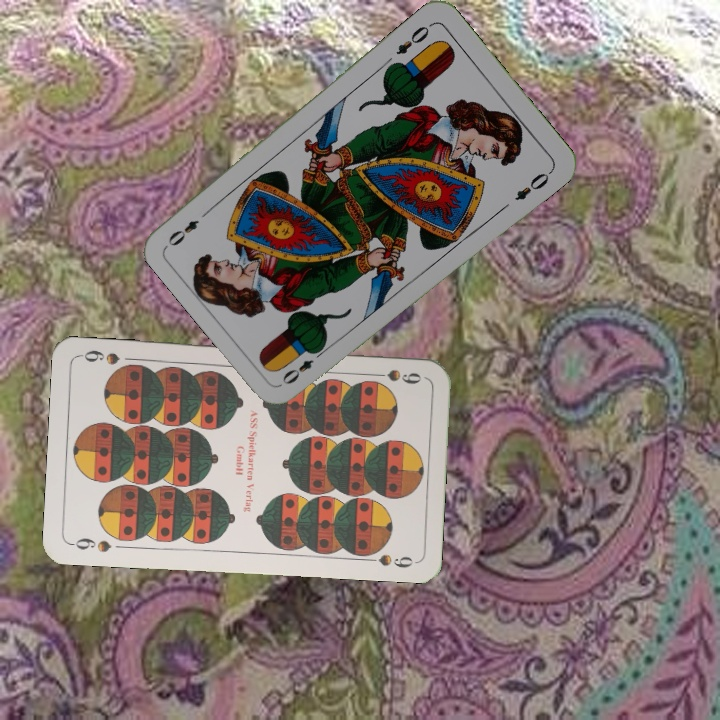EO: (278, 344, 328, 388), (392, 19, 435, 58)
S9: (366, 365, 424, 387), (67, 534, 114, 554)
